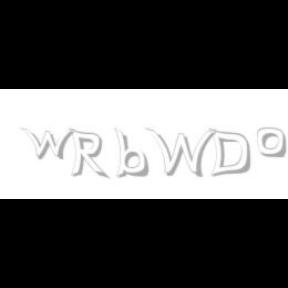D: (207, 128, 250, 178)
R: (69, 128, 107, 180)
W: (145, 128, 217, 178)
b: (114, 128, 152, 178)
o: (256, 128, 286, 158)
w: (20, 128, 79, 160)
